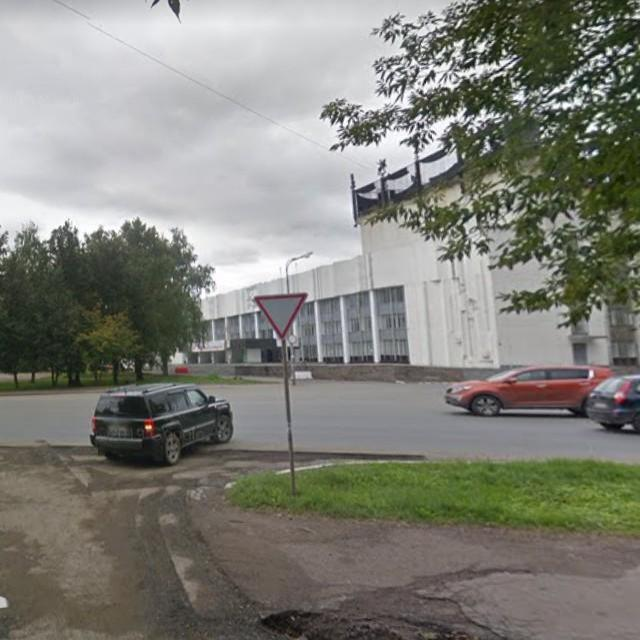Ustap pierwszenstwa: (249, 286, 314, 344)
